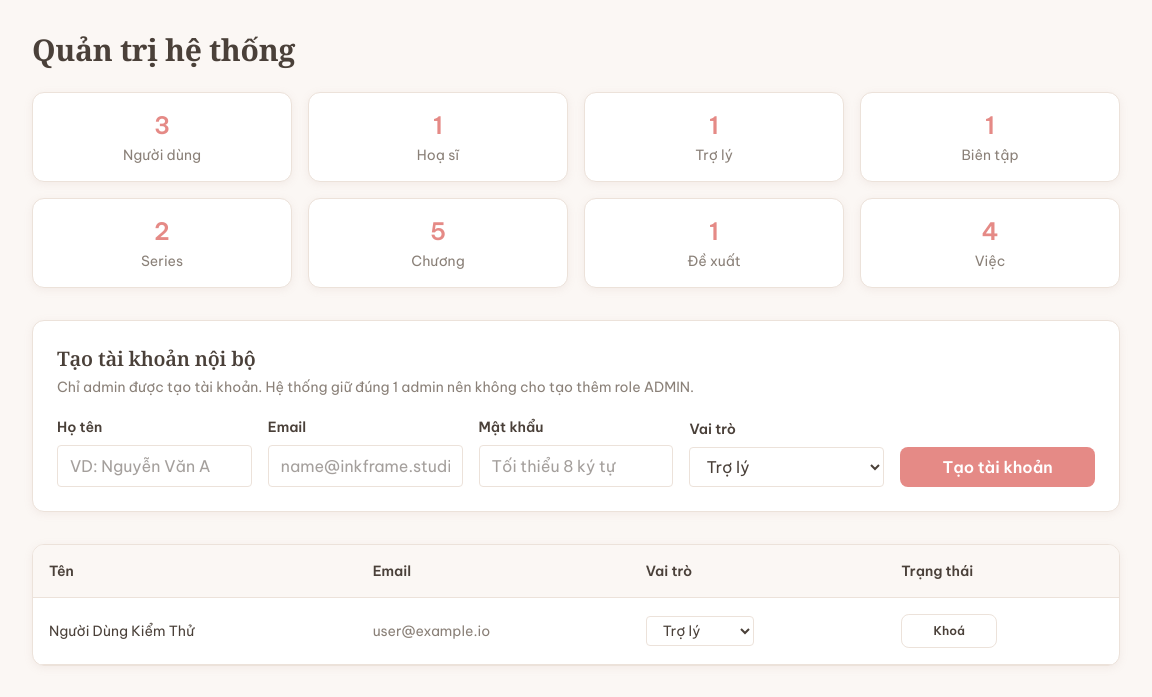
Console › displays action error when patch fails
Expected: the text "Người Dùng Kiểm Thử" is shown, [33, 598, 357, 664]
Click the button "Khoá" at (949, 631), box [901, 614, 997, 648]
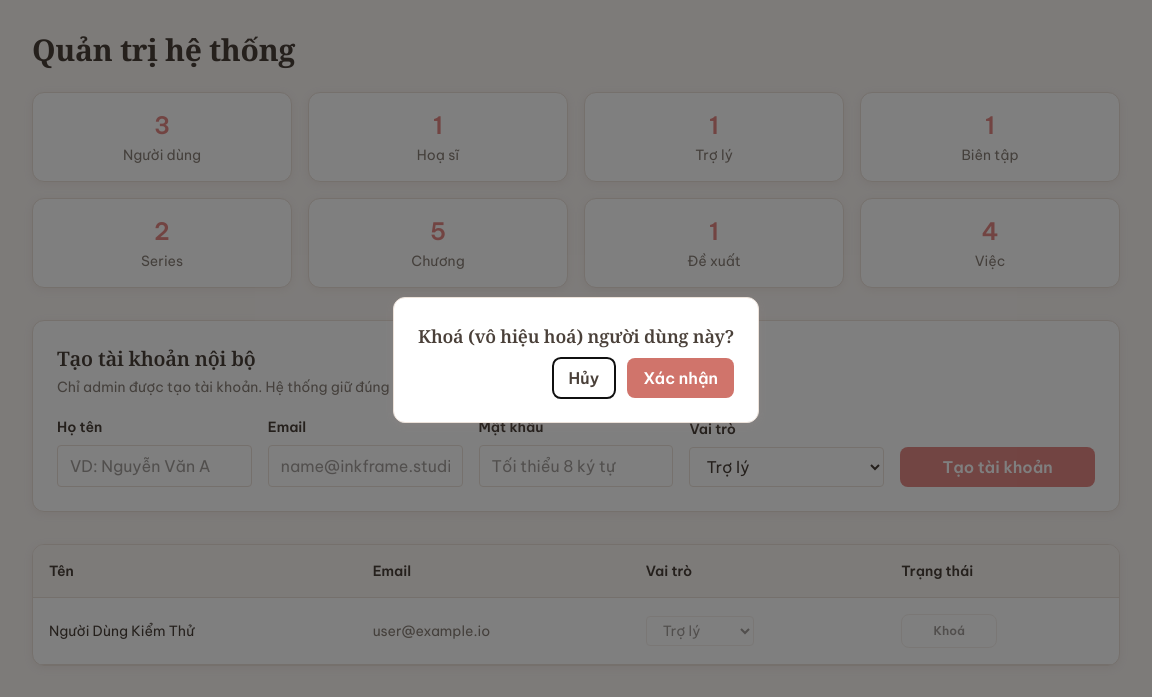
Confirm the styled confirm dialog
Click the button "Xác nhận" at (681, 378), box [627, 358, 734, 398]
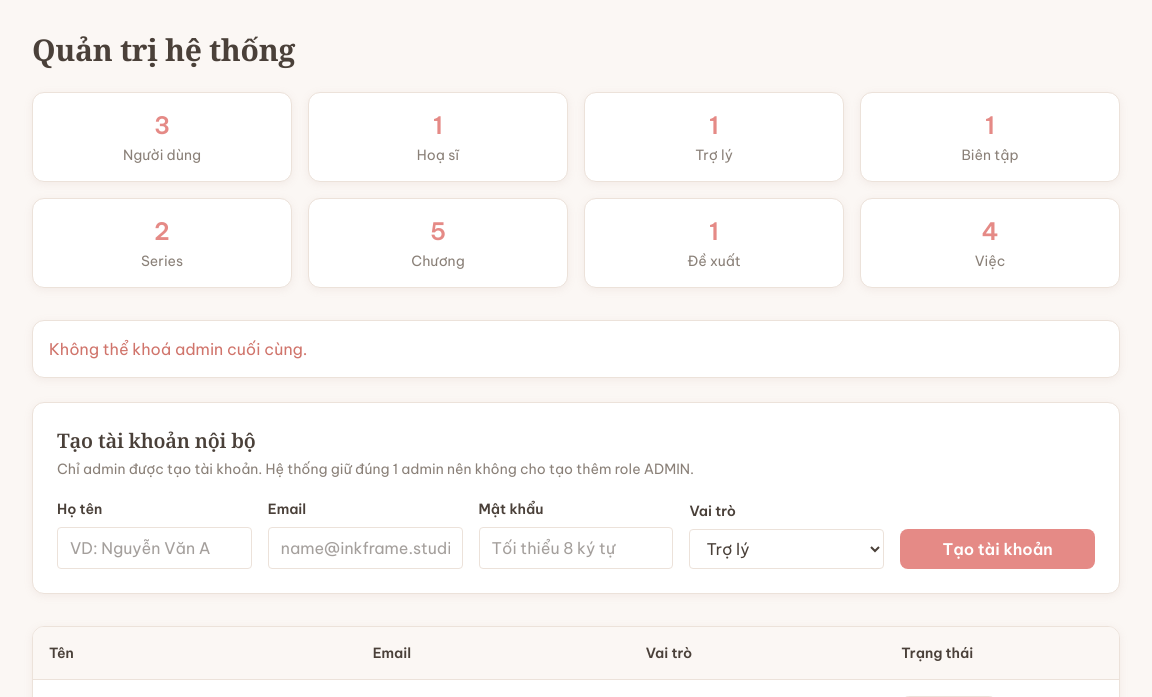
Expected: the text "Không thể khoá admin cuối cùng." is shown, [32, 320, 1120, 378]
